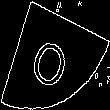O_N: (31, 23, 79, 87)
